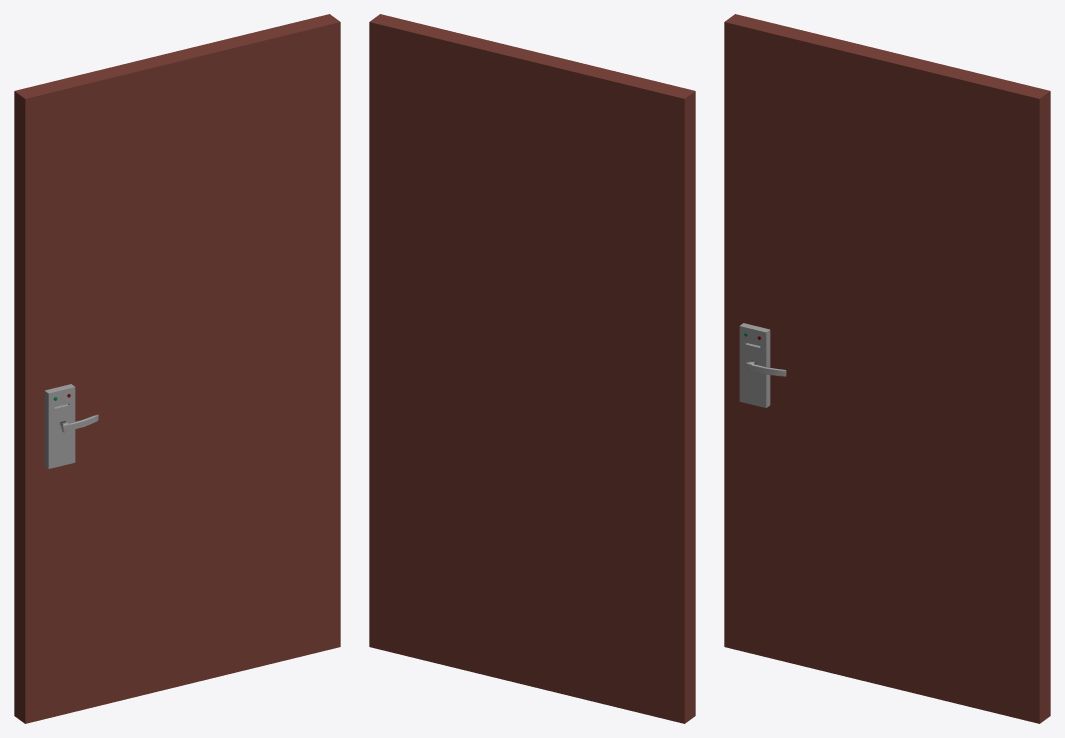
Rendered from motelDoor.fbx.
3 views of the same model, side by side, from view 1: azimuth 30°, elevation 25°; view 2: azimuth 150°, elevation 25°; view 3: azimuth 330°, elevation 25° (orthographic).
Parts seen in each view (by area): view 1: doorFrame, doorLock; view 2: doorFrame; view 3: doorFrame, doorLock.
Part boxes in pixels (x1,y1,x2,y2): doorFrame: (14,14,340,723); doorLock: (44,384,75,468); doorFrame: (369,14,695,723); doorFrame: (724,14,1050,723); doorLock: (739,323,770,407).
Bounding box in the file's own units: 104 × 197 × 11.32.
